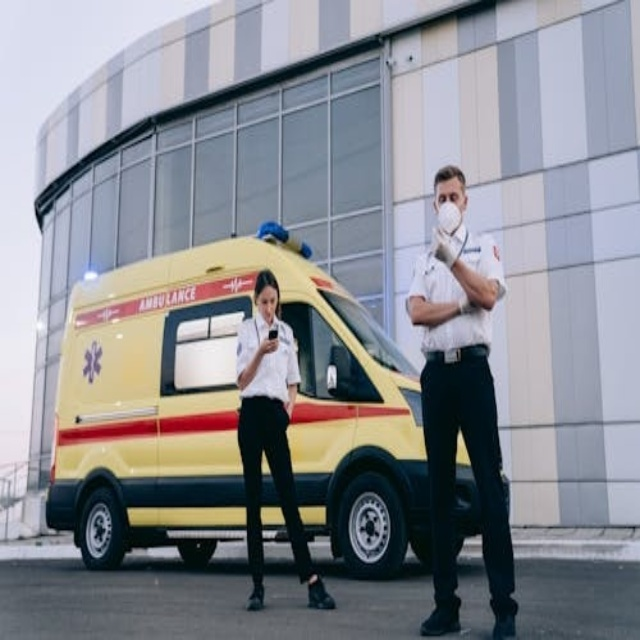Guantes: (432, 224, 463, 271)
Mascara: (437, 201, 462, 235)
